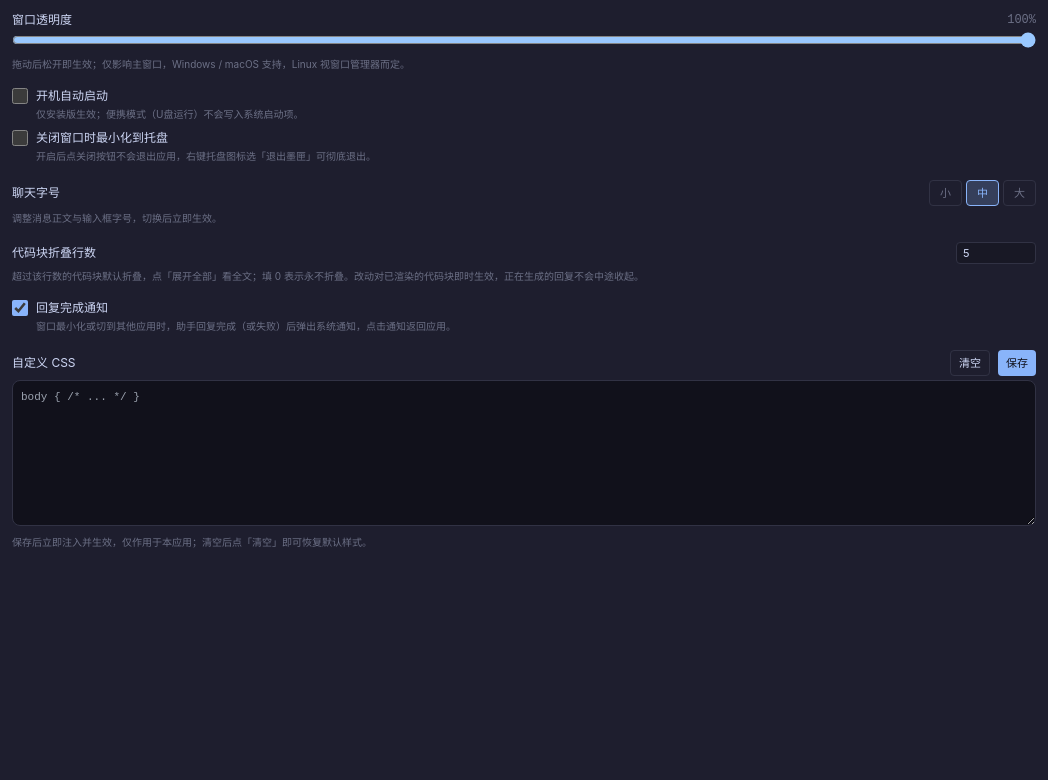
Test case: 外观面板 — 代码块折叠阈值 › 清空后失焦：还原当前值且一次都不写库
The image size is (1048, 780).
Expected: the text "代码块折叠行数" is shown, [12, 245, 96, 261]
Clear the number field with id "ui-code-collapse-lines" at (996, 253), box [956, 242, 1036, 264]
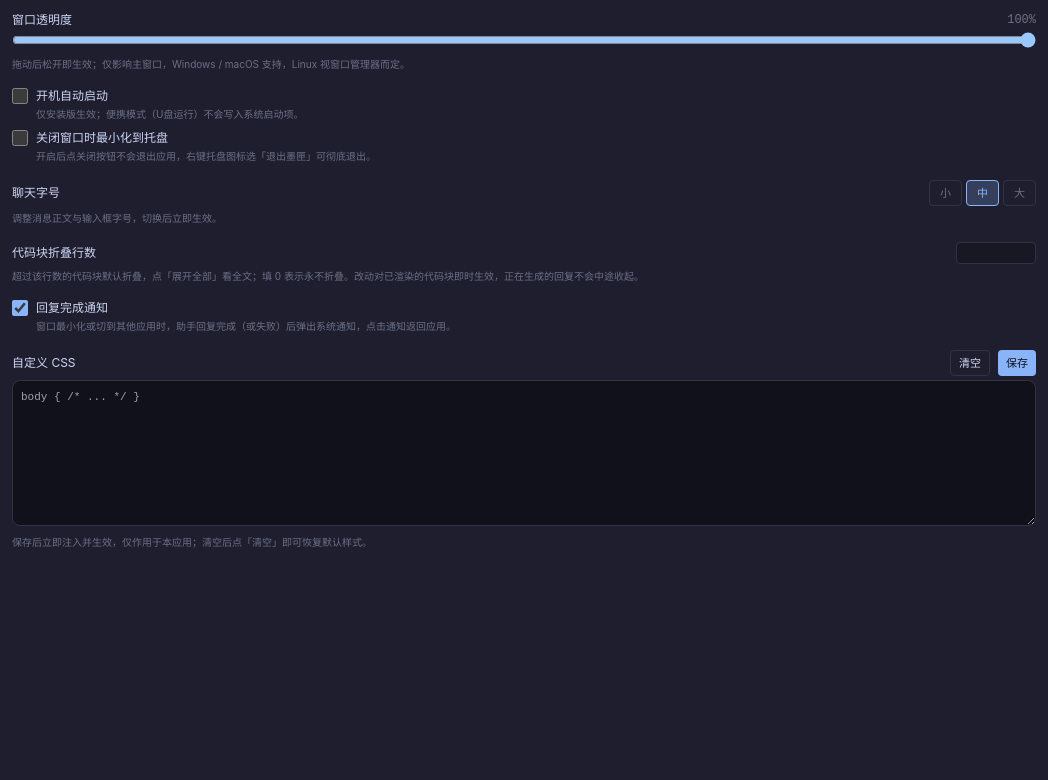
Leave the number field with id "ui-code-collapse-lines", box [956, 242, 1036, 264]
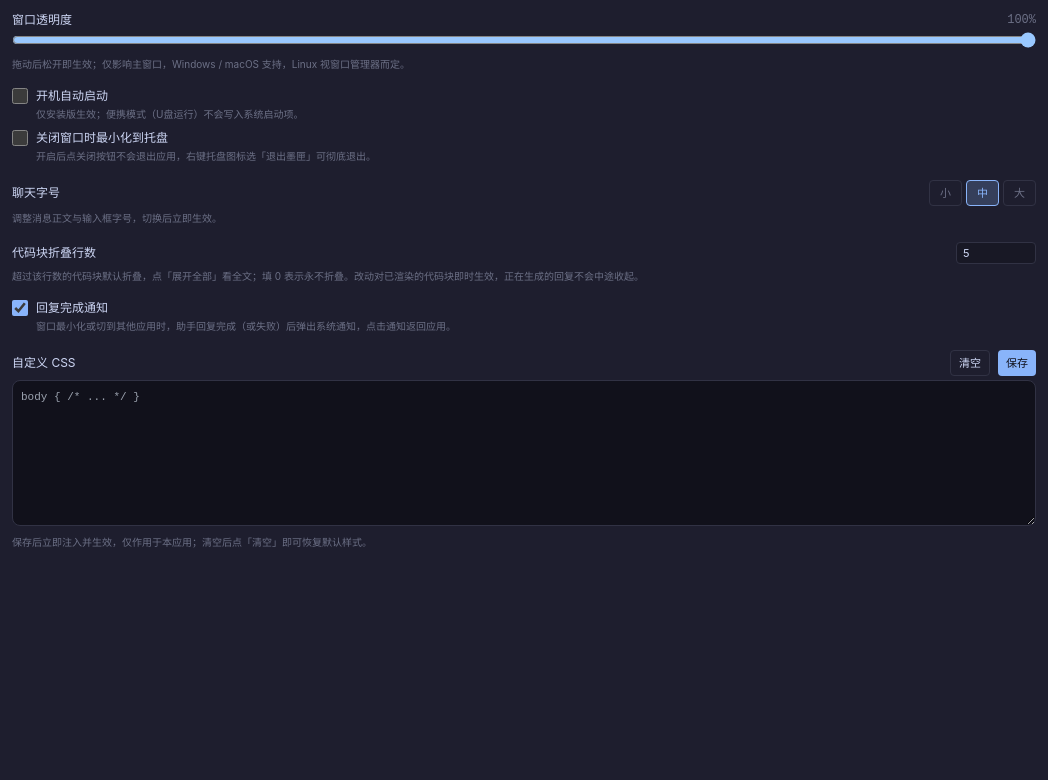
Expected: the number field with id "ui-code-collapse-lines" holds "5", [956, 242, 1036, 264]
